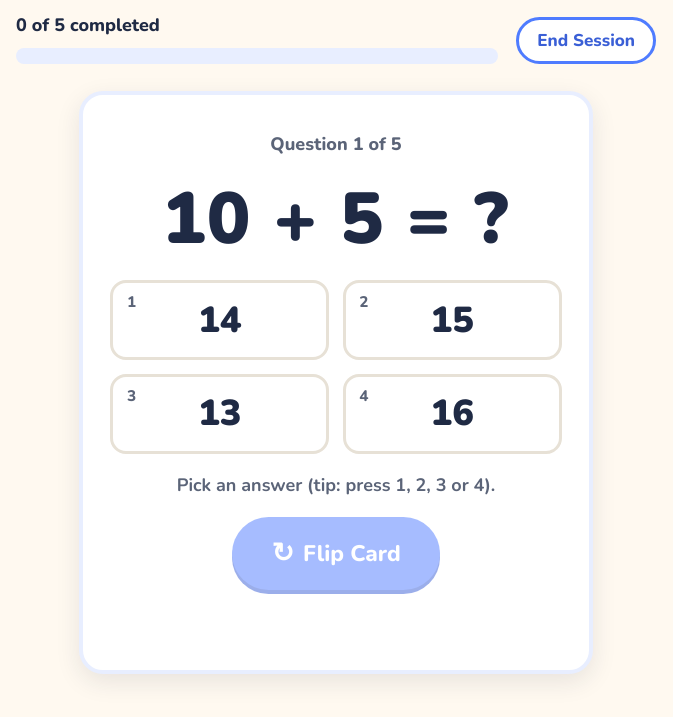
Test: PracticeSessionPage › shows progress and moves to the next question after each result
The width and height of the screenshot is (673, 717).
Expected: the text "0 of 5 completed" is shown, [16,13,160,37]
Click the button "1 14".
click(220, 320)  # box [110,280,329,360]
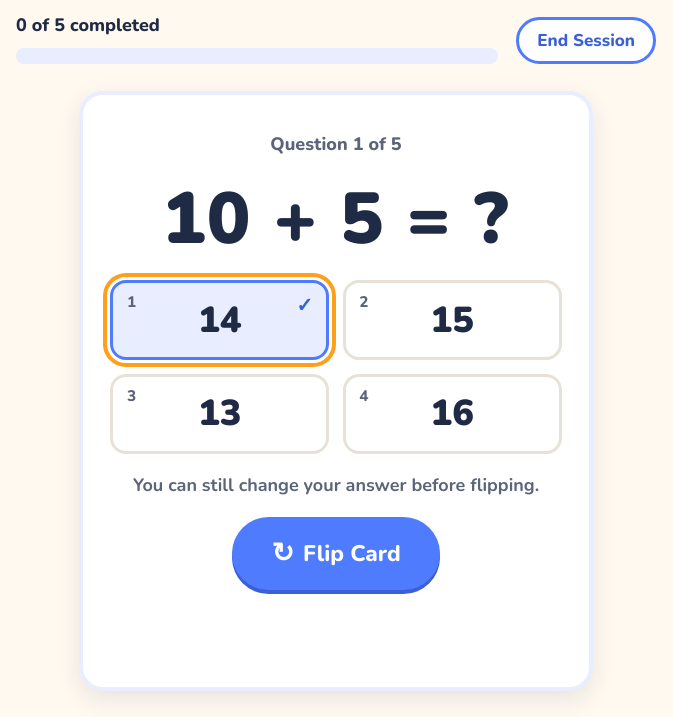
Click the button "↻ Flip Card".
click(336, 553)  # box [232,517,440,590]
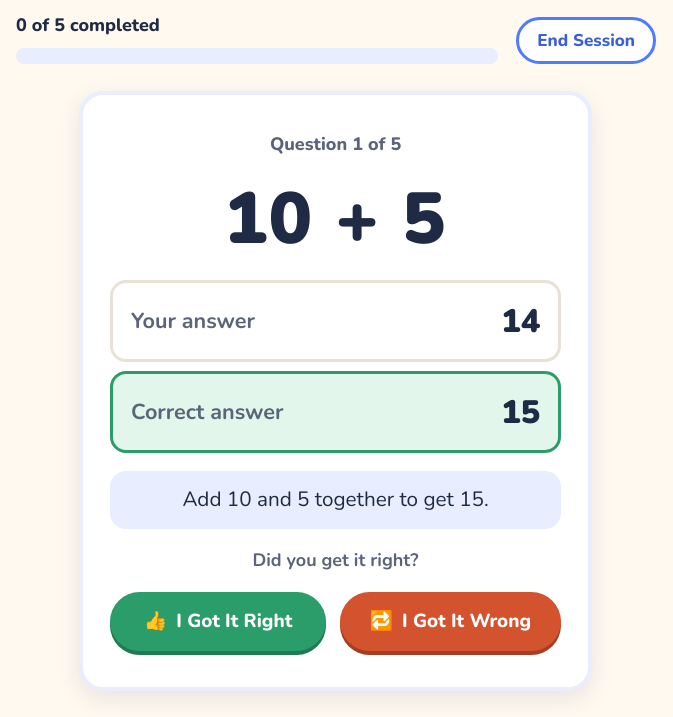
Click the button "🔁 I Got It Wrong".
click(451, 621)  # box [340,592,562,651]
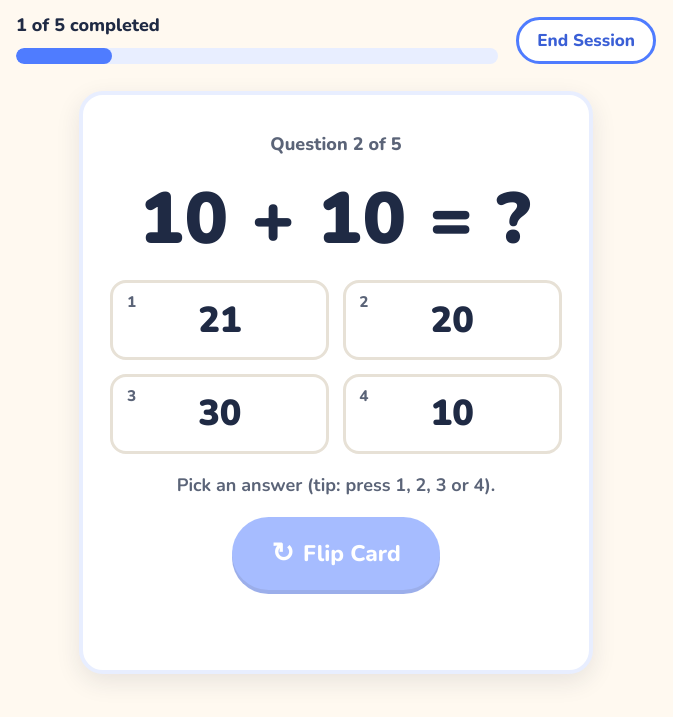
Expected: the text "1 of 5 completed" is shown, [16,13,160,37]
